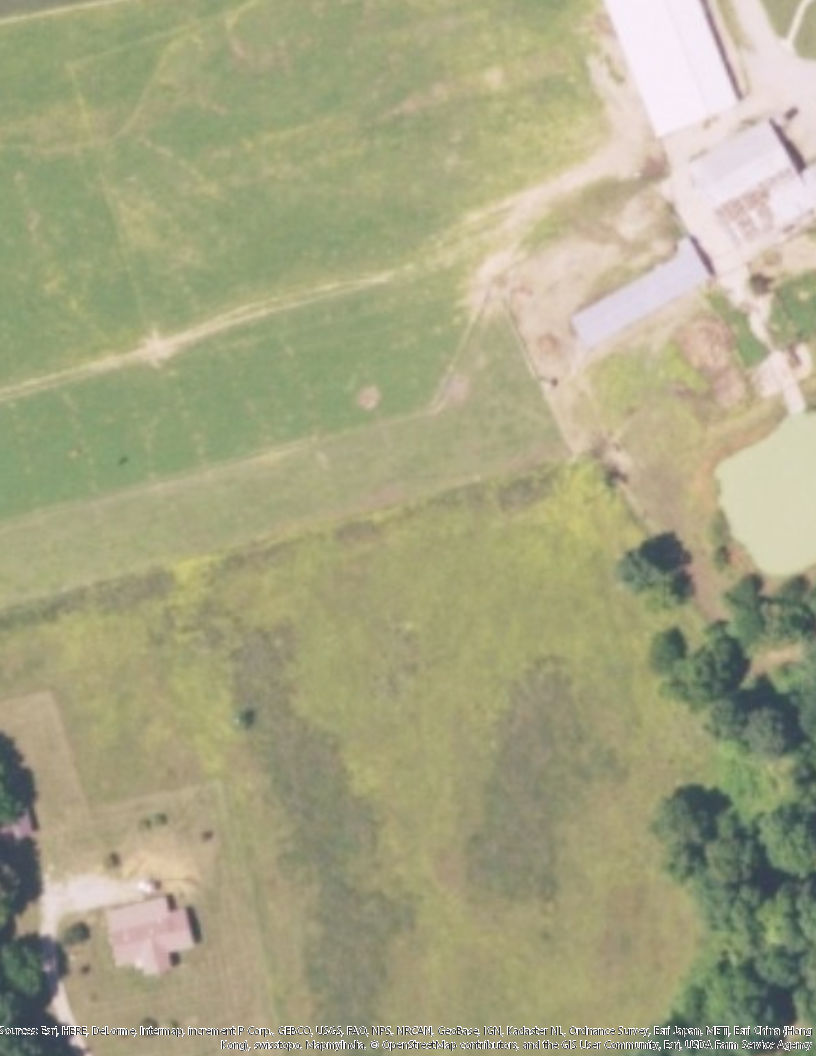cafo: (584, 1, 766, 145), (570, 233, 724, 351), (687, 112, 801, 210)
